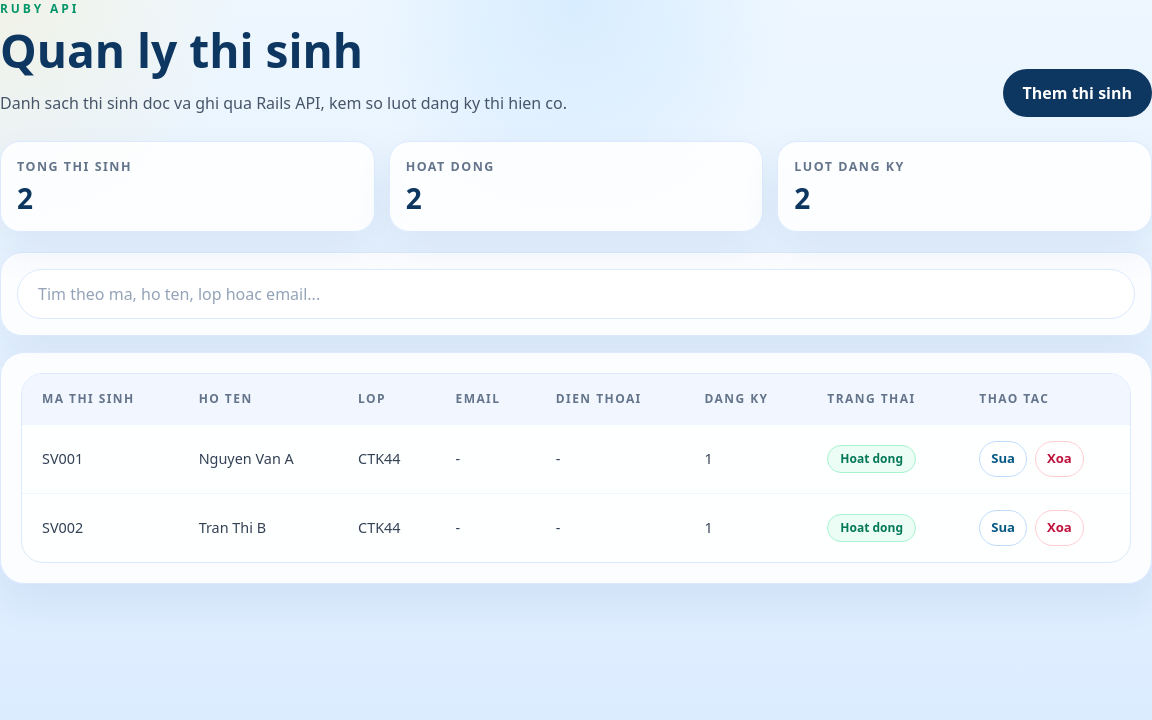
Scenario: CandidatesPage › opens create form and delete confirmation
Expected: the text "Nguyen Van A" is shown, [179,425,338,494]
Click the button "Them thi sinh" at [1077, 93], box [1002,69,1151,117]
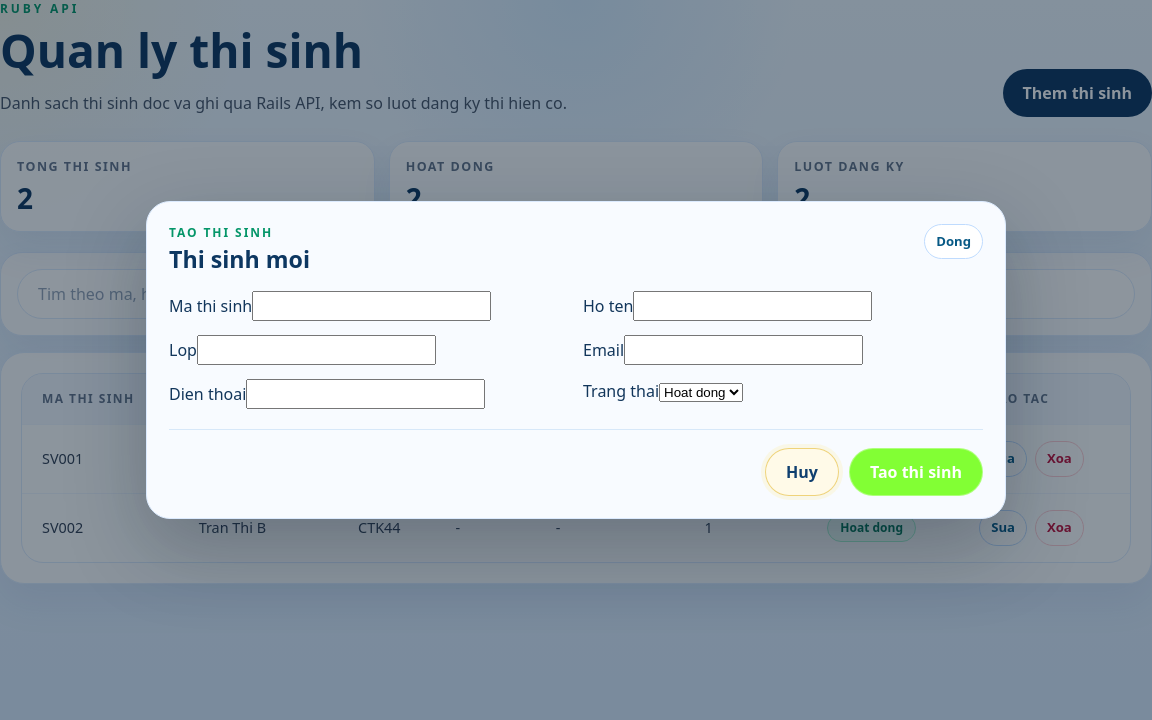
Expected: the heading "Thi sinh moi" is shown, [169,246,310,273]
Click the button "Huy" at [802, 472], box [765,448,839,496]
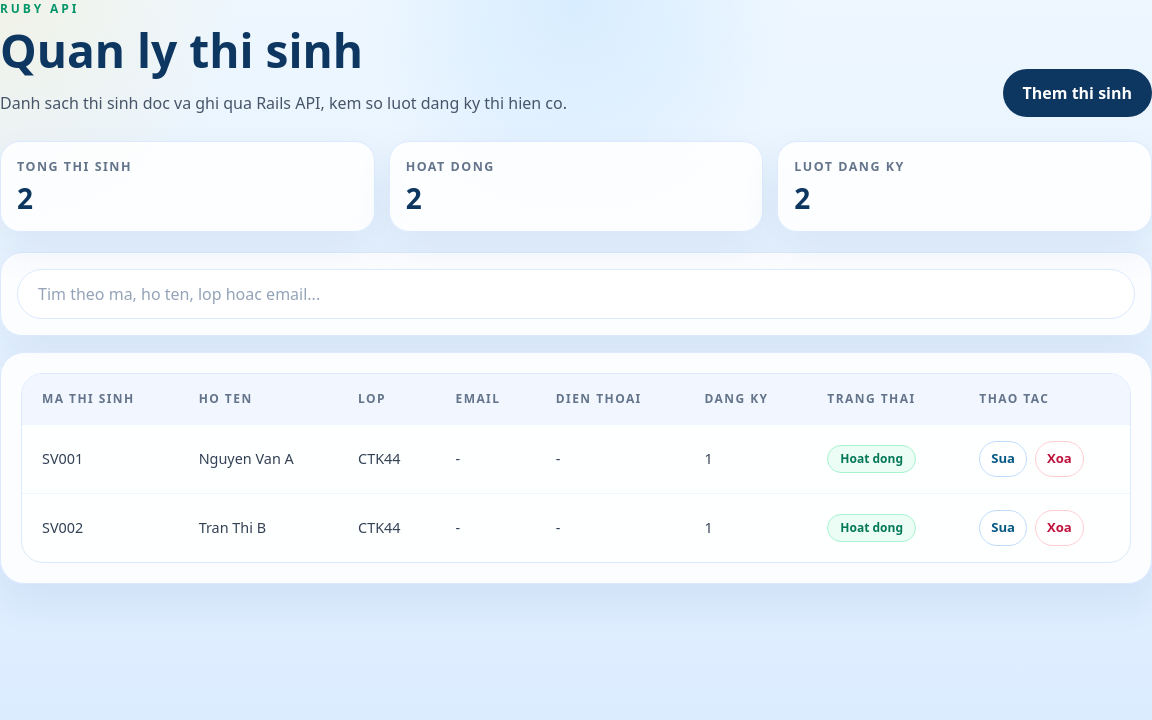
Click the button "Xoa" in the row of "SV001" at [1059, 459], box [1035,441,1084,477]
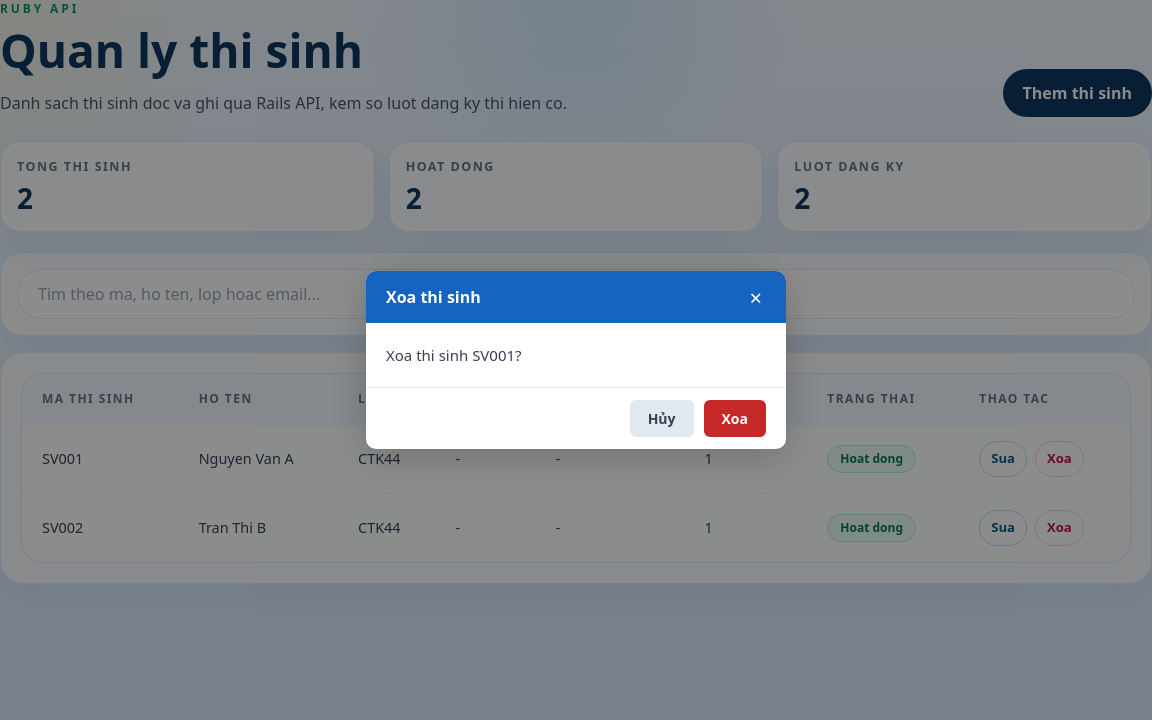
Expected: the text "Xoa thi sinh" is shown, [386,285,481,309]
